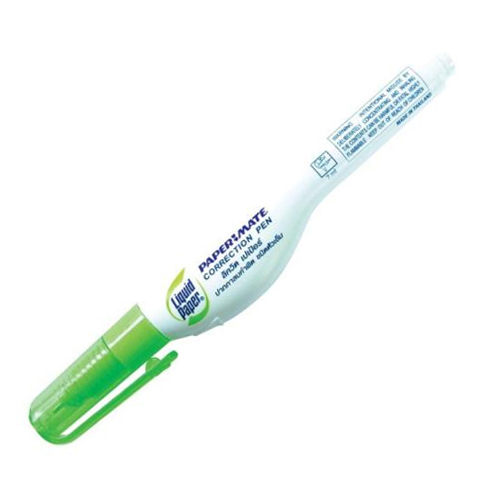Correction_fluid: (23, 46, 459, 450)
